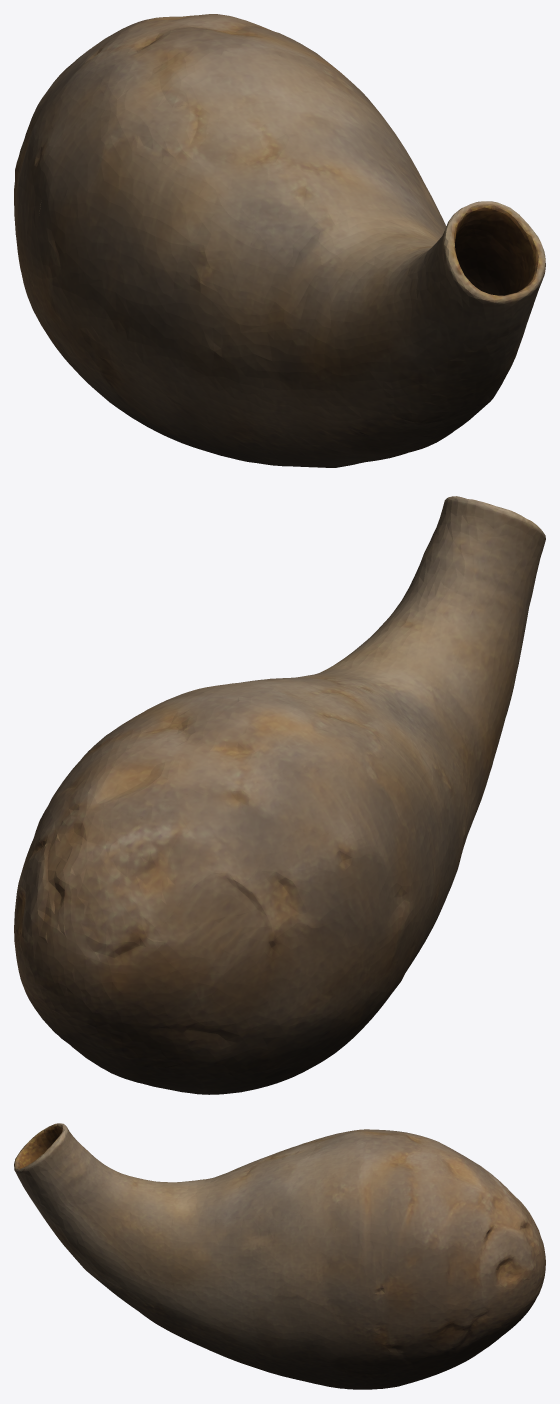
3 views of the same model, one above another, from view 1: azimuth 30°, elevation 25°; view 2: azimuth 150°, elevation 25°; view 3: azimuth 270°, elevation 25° (orthographic). The views are drawn at different scales.
Visible parts, largest first — view 1: world; view 2: world; view 3: world.
Boxes of the visible parts, x1=… form: world: x1=14, y1=14, x2=545, y2=467; world: x1=14, y1=496, x2=545, y2=1094; world: x1=14, y1=1123, x2=545, y2=1389.
Bounding box in the file's own units: 0.4489 × 0.5177 × 0.9999.
1 material, 1 textured.
